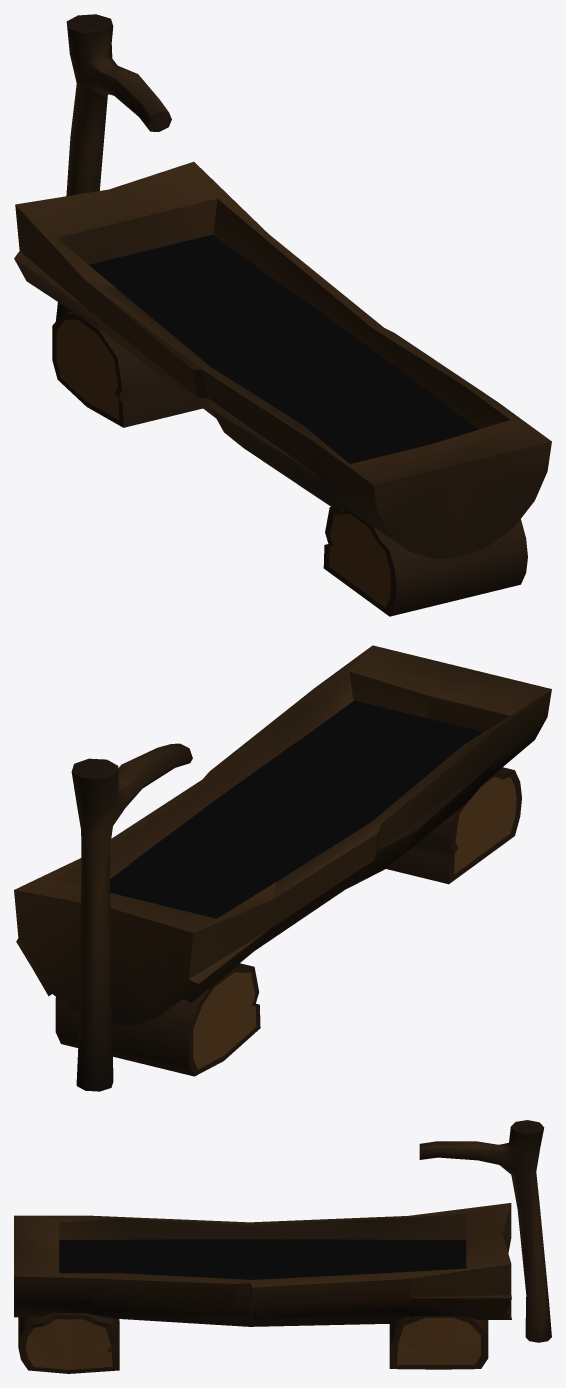
File: Trough.fbx
3 views of the same model, one above another, from view 1: azimuth 30°, elevation 25°; view 2: azimuth 150°, elevation 25°; view 3: azimuth 270°, elevation 25° (orthographic). The views are drawn at different scales.
Visible parts, largest first — view 1: Trough; view 2: Trough; view 3: Trough.
Part boxes in pixels (box(x1,y1,x2,y2)): Trough: box(14, 14, 551, 616); Trough: box(14, 645, 551, 1091); Trough: box(14, 1120, 551, 1373).
Size of the model in its own units: 169 by 264 by 575.
